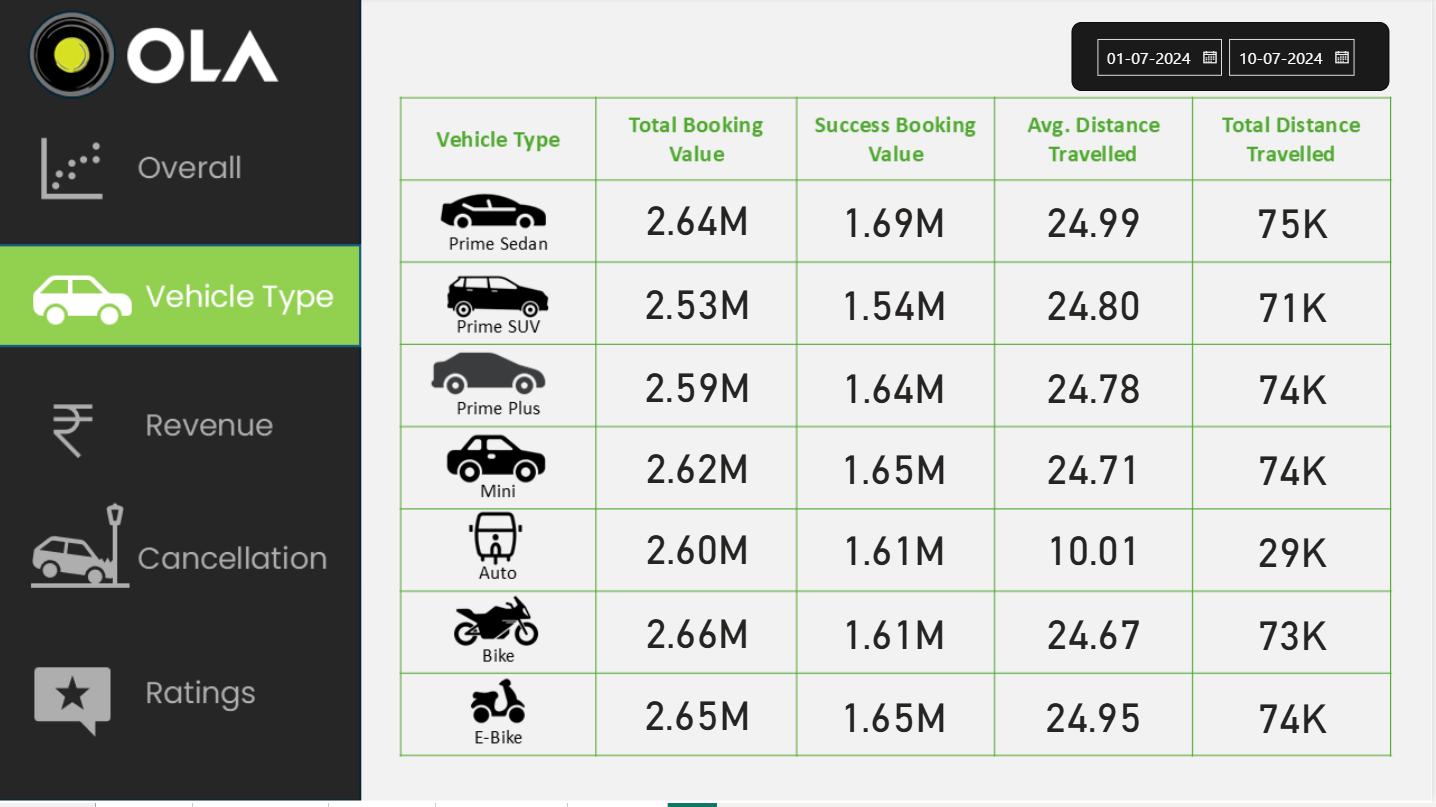

The dashboard page shown, as its layout file describes it:
{"tool":"powerbi","page":{"name":"Vehicle Type","canvas":[1280,720],"ordinal":1},"visuals":[{"type":"card","fields":{"Values":["Sum(July.Booking_Value)"]},"box":[714.9,167.7,168.8,61.7],"z":0},{"type":"card","fields":{"Values":["Sum(July.Booking_Value)"]},"box":[714.9,315.9,168.8,61.7],"z":1000},{"type":"card","fields":{"Values":["Sum(July.Booking_Value)"]},"box":[714.9,388.6,168.8,61.7],"z":2000},{"type":"card","fields":{"Values":["Sum(July.Booking_Value)"]},"box":[714.9,461.3,168.8,61.7],"z":3000},{"type":"card","fields":{"Values":["Sum(July.Booking_Value)"]},"box":[714.9,535.4,168.8,61.7],"z":4000},{"type":"card","fields":{"Values":["Sum(July.Booking_Value)"]},"box":[714.9,609.5,168.8,61.7],"z":5000},{"type":"card","fields":{"Values":["Sum(July.Booking_Value)"]},"box":[714.9,241.8,168.8,61.7],"z":6000},{"type":"card","fields":{"Values":["Sum(July.Booking_Value)"]},"box":[539.4,166.7,168.8,61.7],"z":7000},{"type":"card","fields":{"Values":["Sum(July.Booking_Value)"]},"box":[539.4,314.9,168.8,61.7],"z":8000},{"type":"card","fields":{"Values":["Sum(July.Booking_Value)"]},"box":[539.4,387.6,168.8,61.7],"z":9000},{"type":"card","fields":{"Values":["Sum(July.Booking_Value)"]},"box":[539.4,460.4,168.8,61.7],"z":10000},{"type":"card","fields":{"Values":["Sum(July.Booking_Value)"]},"box":[539.4,534.5,168.8,61.7],"z":11000},{"type":"card","fields":{"Values":["Sum(July.Booking_Value)"]},"box":[539.4,608.6,168.8,61.7],"z":12000},{"type":"card","fields":{"Values":["Sum(July.Booking_Value)"]},"box":[539.4,240.8,168.8,61.7],"z":13000},{"type":"card","fields":{"Values":["Avg(July.Ride_Distance)"]},"box":[892.9,167.8,168.8,61.7],"z":14000},{"type":"card","fields":{"Values":["Avg(July.Ride_Distance)"]},"box":[892.9,316,168.8,61.7],"z":15000},{"type":"card","fields":{"Values":["Avg(July.Ride_Distance)"]},"box":[892.9,388.7,168.8,61.7],"z":16000},{"type":"card","fields":{"Values":["Avg(July.Ride_Distance)"]},"box":[892.9,461.5,168.8,61.7],"z":17000},{"type":"card","fields":{"Values":["Avg(July.Ride_Distance)"]},"box":[892.9,535.6,168.8,61.7],"z":18000},{"type":"card","fields":{"Values":["Avg(July.Ride_Distance)"]},"box":[892.9,609.7,168.8,61.7],"z":19000},{"type":"card","fields":{"Values":["Avg(July.Ride_Distance)"]},"box":[892.9,241.9,168.8,61.7],"z":20000},{"type":"card","fields":{"Values":["Sum(July.Ride_Distance)"]},"box":[1070.8,169,168.8,61.7],"z":21000},{"type":"card","fields":{"Values":["Sum(July.Ride_Distance)"]},"box":[1070.8,317.2,168.8,61.7],"z":22000},{"type":"card","fields":{"Values":["Sum(July.Ride_Distance)"]},"box":[1070.8,389.9,168.8,61.7],"z":23000},{"type":"card","fields":{"Values":["Sum(July.Ride_Distance)"]},"box":[1070.8,462.7,168.8,61.7],"z":24000},{"type":"card","fields":{"Values":["Sum(July.Ride_Distance)"]},"box":[1070.8,536.8,168.8,61.7],"z":25000},{"type":"card","fields":{"Values":["Sum(July.Ride_Distance)"]},"box":[1070.8,610.9,168.8,61.7],"z":26000},{"type":"card","fields":{"Values":["Sum(July.Ride_Distance)"]},"box":[1070.8,243.1,168.8,61.7],"z":27000},{"type":"slicer","title":"Date","fields":{"Values":["July.Date"]},"box":[957.8,22,284,61.7],"z":28000},{"type":"actionButton","box":[0,107.1,327.1,104.3],"z":28001},{"type":"actionButton","box":[0,327.1,327.1,107.1],"z":28003},{"type":"actionButton","box":[0,434.3,327.1,118.6],"z":28004},{"type":"actionButton","box":[0,584.3,327.1,85.7],"z":28005}]}

Visuals, with their boxes on the page's 1280x720 design canvas (x1, y1, x2, y2). These are canvas units, not pixel positions in the 1436x807 screenshot, which may show the page scaled, cropped or inside an application window:
card - Sum(July.Booking_Value): x1=715, y1=168, x2=884, y2=229
card - Sum(July.Booking_Value): x1=715, y1=316, x2=884, y2=378
card - Sum(July.Booking_Value): x1=715, y1=389, x2=884, y2=450
card - Sum(July.Booking_Value): x1=715, y1=461, x2=884, y2=523
card - Sum(July.Booking_Value): x1=715, y1=535, x2=884, y2=597
card - Sum(July.Booking_Value): x1=715, y1=610, x2=884, y2=671
card - Sum(July.Booking_Value): x1=715, y1=242, x2=884, y2=304
card - Sum(July.Booking_Value): x1=539, y1=167, x2=708, y2=228
card - Sum(July.Booking_Value): x1=539, y1=315, x2=708, y2=377
card - Sum(July.Booking_Value): x1=539, y1=388, x2=708, y2=449
card - Sum(July.Booking_Value): x1=539, y1=460, x2=708, y2=522
card - Sum(July.Booking_Value): x1=539, y1=534, x2=708, y2=596
card - Sum(July.Booking_Value): x1=539, y1=609, x2=708, y2=670
card - Sum(July.Booking_Value): x1=539, y1=241, x2=708, y2=302
card - Avg(July.Ride_Distance): x1=893, y1=168, x2=1062, y2=230
card - Avg(July.Ride_Distance): x1=893, y1=316, x2=1062, y2=378
card - Avg(July.Ride_Distance): x1=893, y1=389, x2=1062, y2=450
card - Avg(July.Ride_Distance): x1=893, y1=462, x2=1062, y2=523
card - Avg(July.Ride_Distance): x1=893, y1=536, x2=1062, y2=597
card - Avg(July.Ride_Distance): x1=893, y1=610, x2=1062, y2=671
card - Avg(July.Ride_Distance): x1=893, y1=242, x2=1062, y2=304
card - Sum(July.Ride_Distance): x1=1071, y1=169, x2=1240, y2=231
card - Sum(July.Ride_Distance): x1=1071, y1=317, x2=1240, y2=379
card - Sum(July.Ride_Distance): x1=1071, y1=390, x2=1240, y2=452
card - Sum(July.Ride_Distance): x1=1071, y1=463, x2=1240, y2=524
card - Sum(July.Ride_Distance): x1=1071, y1=537, x2=1240, y2=598
card - Sum(July.Ride_Distance): x1=1071, y1=611, x2=1240, y2=673
card - Sum(July.Ride_Distance): x1=1071, y1=243, x2=1240, y2=305
"Date" slicer: x1=958, y1=22, x2=1242, y2=84
actionButton: x1=0, y1=107, x2=327, y2=211
actionButton: x1=0, y1=327, x2=327, y2=434
actionButton: x1=0, y1=434, x2=327, y2=553
actionButton: x1=0, y1=584, x2=327, y2=670
